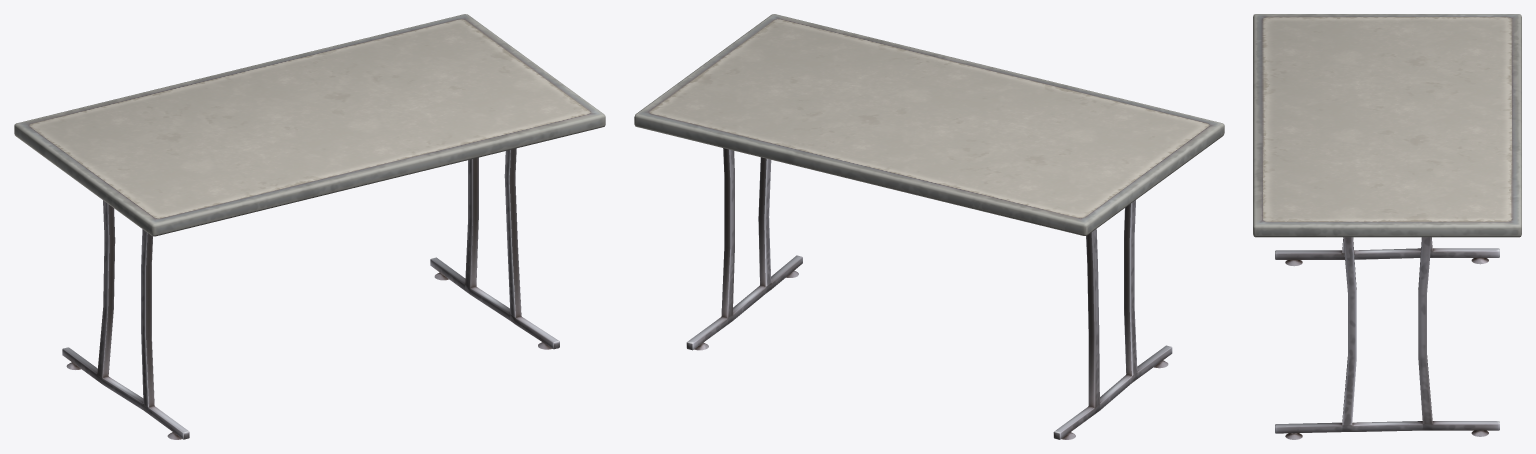
File: Table01.FBX
3 renders of one model, left to right at view 1: azimuth 30°, elevation 25°; view 2: azimuth 150°, elevation 25°; view 3: azimuth 270°, elevation 25°, orthographic. The views are drawn at different scales.
Visible parts, largest first — view 1: Table01; view 2: Table01; view 3: Table01.
Boxes of the visible parts, x1,y1,x2,y2 form: Table01: (14, 14, 605, 439); Table01: (634, 14, 1224, 439); Table01: (1253, 14, 1521, 439).
Size of what is drawn, in the model's own units: 1.5 by 0.75 by 0.8.
